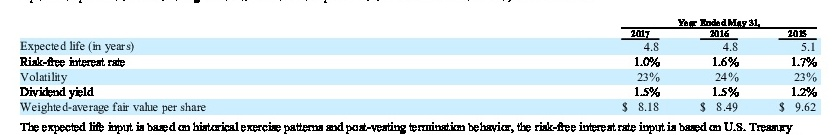table: (0, 0, 840, 135)
